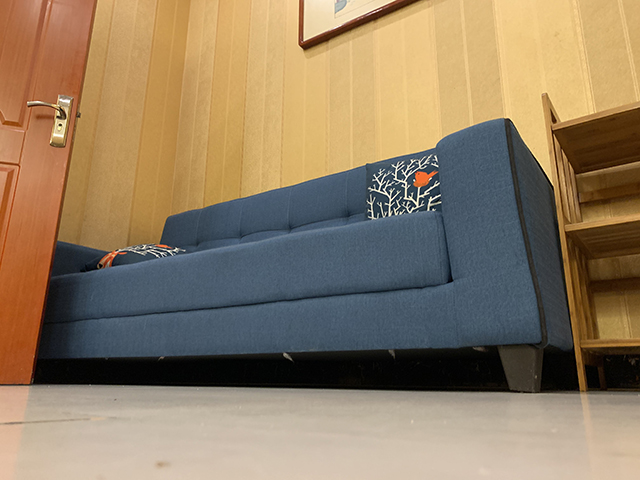sofa: (34, 117, 575, 392)
